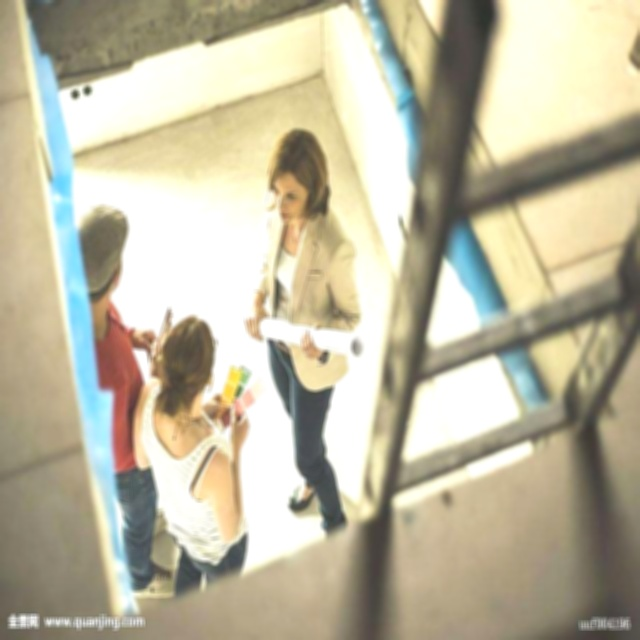Sin_Casco_Mascarrilla: (267, 125, 330, 220)
